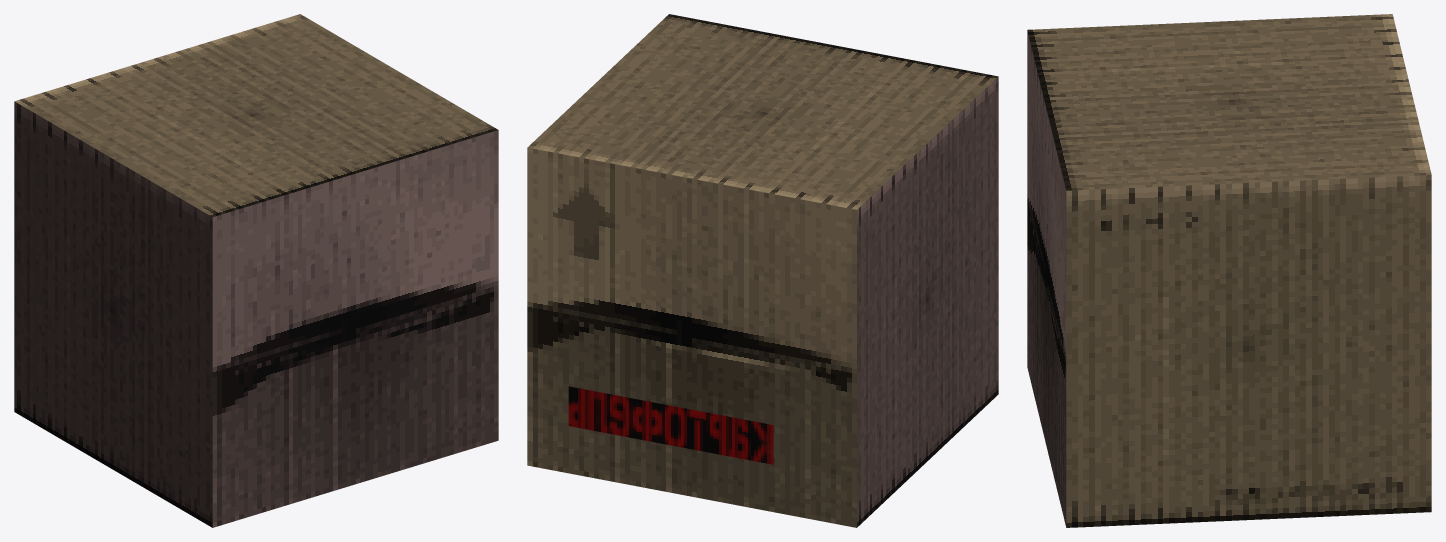
The model's file is primary_215.glb.
3 renders of one model, left to right at view 1: azimuth 30°, elevation 25°; view 2: azimuth 150°, elevation 25°; view 3: azimuth 270°, elevation 25°, orthographic. The views are drawn at different scales.
Visible parts, largest first — view 1: Object; view 2: Object; view 3: Object.
Part boxes in pixels (box(x1,y1,x2,y2)): Object: box(14, 14, 498, 527); Object: box(527, 14, 998, 527); Object: box(1027, 14, 1431, 527).
Size of the model in its own units: 1.23 by 1.09 by 1.19.
7 materials, 7 textured.
